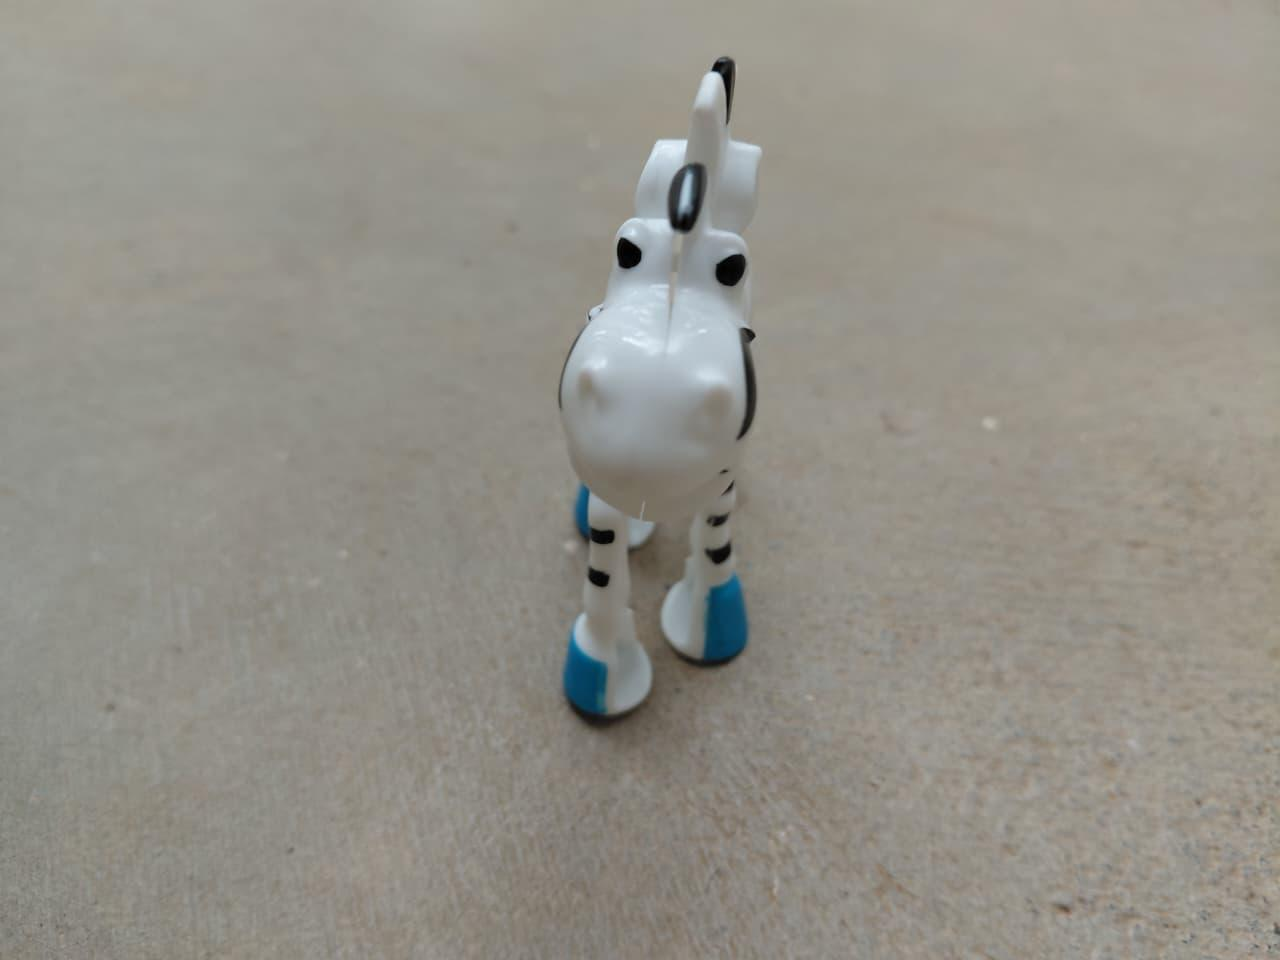zebra: (504, 50, 784, 737)
